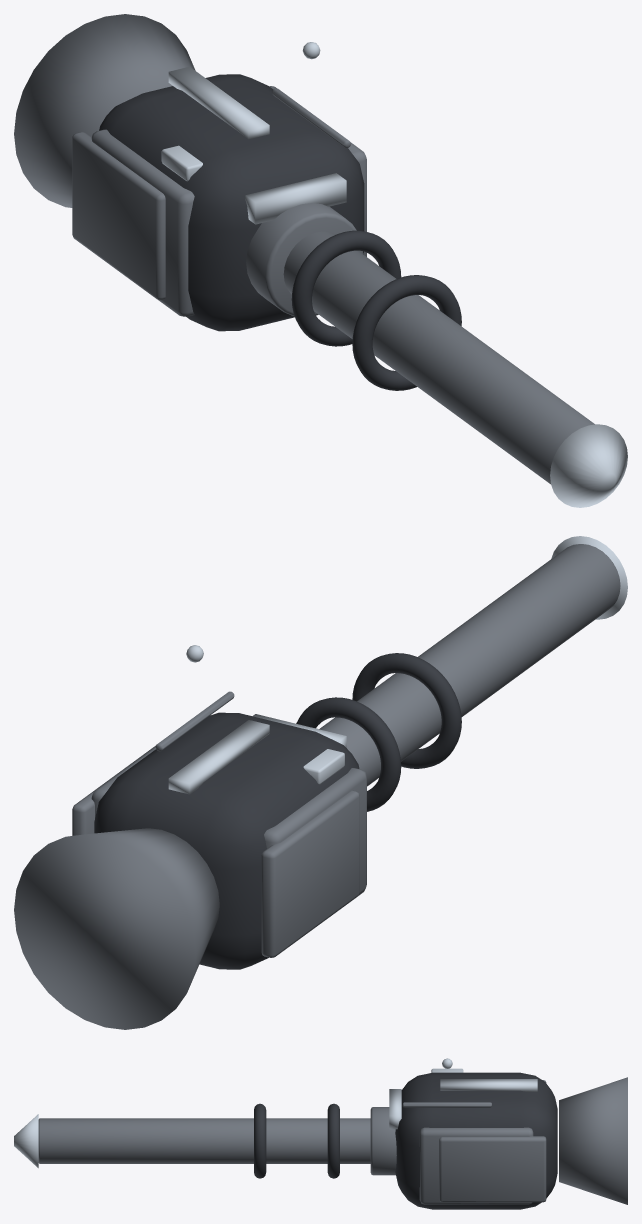
The model's file is weapon_drone_lance.glb.
The picture shows the model from 3 angles, top to bottom: view 1: azimuth 30°, elevation 25°; view 2: azimuth 150°, elevation 25°; view 3: azimuth 270°, elevation 25°; orthographic projection. The views are drawn at different scales.
Visible parts, largest first — view 1: weapon_drone_lance; view 2: weapon_drone_lance; view 3: weapon_drone_lance.
Part boxes in pixels (x1=…): weapon_drone_lance: x1=14, y1=14, x2=627, y2=507; weapon_drone_lance: x1=14, y1=536, x2=627, y2=1029; weapon_drone_lance: x1=14, y1=1058, x2=627, y2=1209.
Size of the model in its own units: 0.5808 by 0.7068 by 2.5.
